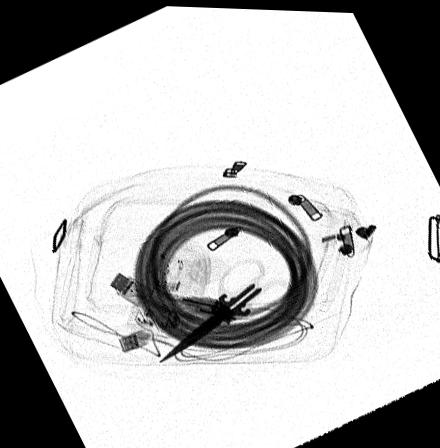Scissors: (155, 255, 298, 367)
